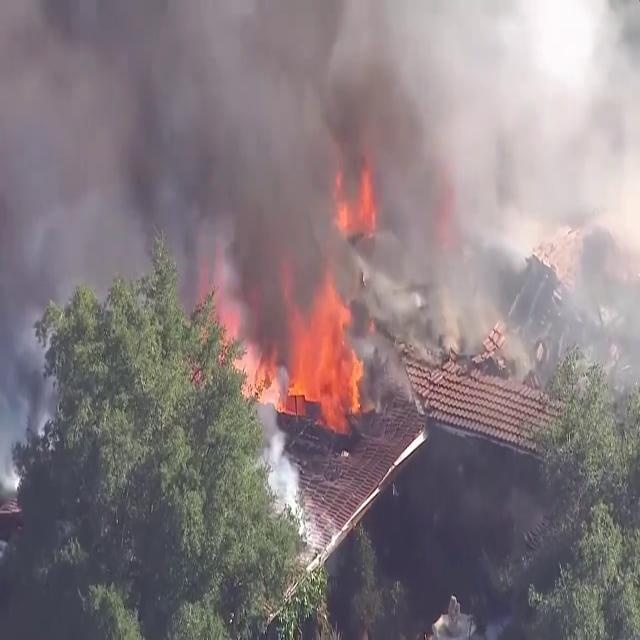Fire: (290, 271, 370, 425)
Smoke: (44, 0, 636, 372)
